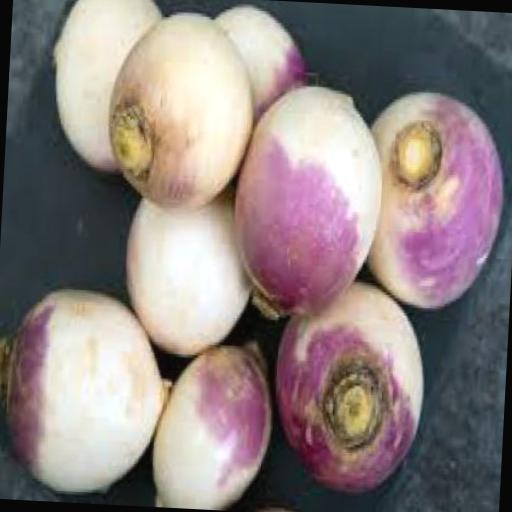biodegradable: (0, 281, 175, 499), (228, 77, 385, 319), (268, 272, 428, 498), (358, 84, 506, 306), (103, 4, 258, 212), (118, 178, 258, 356), (146, 328, 274, 510), (45, 0, 166, 171), (202, 0, 309, 116)
